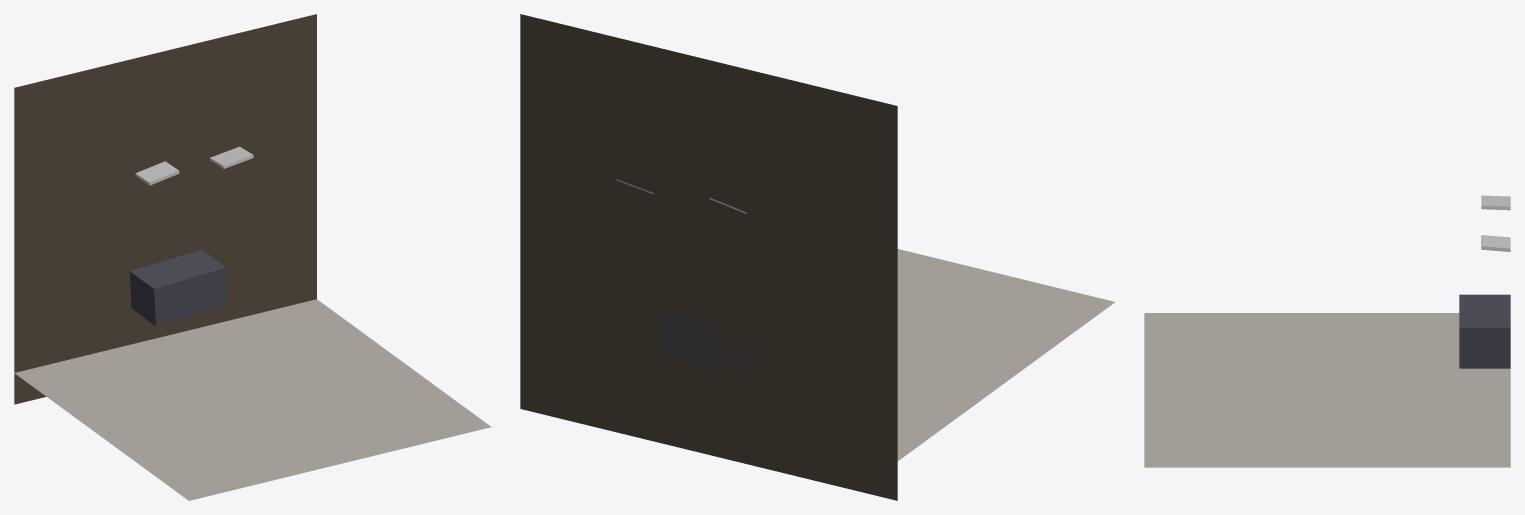
3 renders of one model, left to right at view 1: azimuth 30°, elevation 25°; view 2: azimuth 150°, elevation 25°; view 3: azimuth 270°, elevation 25°, orthographic. The views are drawn at different scales.
Visible parts, largest first — view 1: ground_floor, bg_wall_back, diffuse_sofa_01, glass_partition_01, glass_partition_02; view 2: ground_floor, bg_wall_back, diffuse_sofa_01; view 3: bg_wall_back, diffuse_sofa_01, glass_partition_02, glass_partition_01.
Part boxes in pixels (x1=…): ground_floor: x1=14, y1=14, x2=316, y2=404; bg_wall_back: x1=14, y1=299, x2=491, y2=500; diffuse_sofa_01: x1=129, y1=249, x2=228, y2=326; glass_partition_01: x1=135, y1=161, x2=179, y2=185; glass_partition_02: x1=209, y1=146, x2=253, y2=168; ground_floor: x1=520, y1=14, x2=897, y2=500; bg_wall_back: x1=897, y1=249, x2=1114, y2=460; diffuse_sofa_01: x1=661, y1=307, x2=753, y2=380; bg_wall_back: x1=1144, y1=313, x2=1510, y2=467; diffuse_sofa_01: x1=1459, y1=294, x2=1510, y2=368; glass_partition_02: x1=1481, y1=235, x2=1510, y2=251; glass_partition_01: x1=1481, y1=195, x2=1510, y2=210.
Size of the model in its own units: 0.5 by 0.5 by 0.5001.
